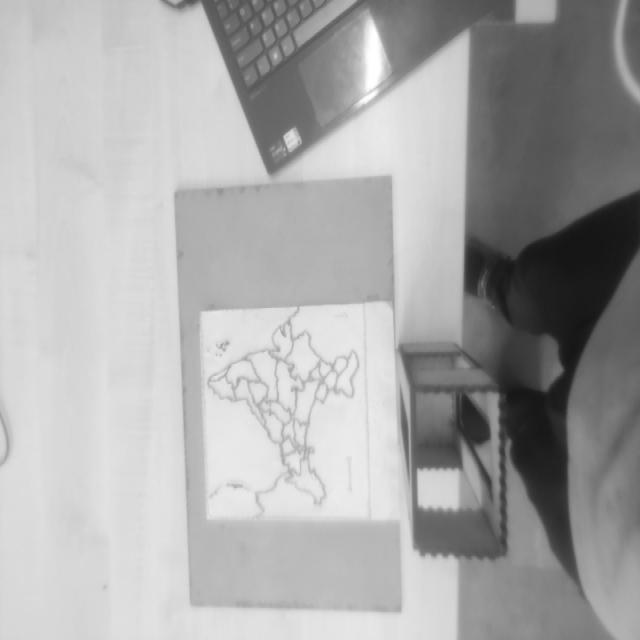map: (201, 303, 370, 523)
